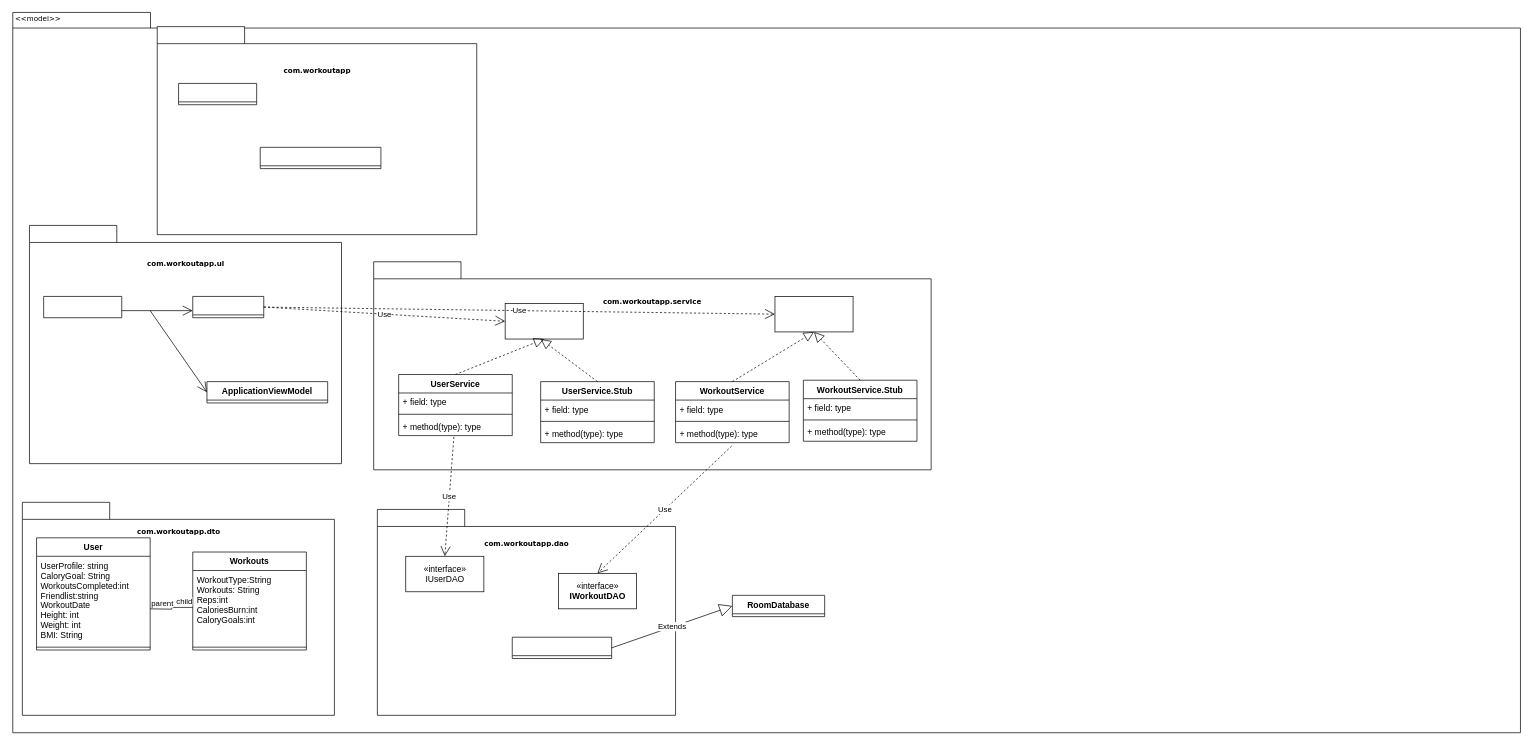
Image size: 1533x746. Some labels were removed from this diagram. Here are the shapes that lost their labels. From the top down, the centre of each, then its label:
(x=217, y=94): AppModule
(x=320, y=158): RetrofitClientInstance
(x=82, y=307): MainActivity
(x=228, y=307): ViewModel
(x=543, y=321): «interface» IUserService
(x=813, y=314): «interface» IWorkoutService
(x=562, y=648): WorkoutDatabase
